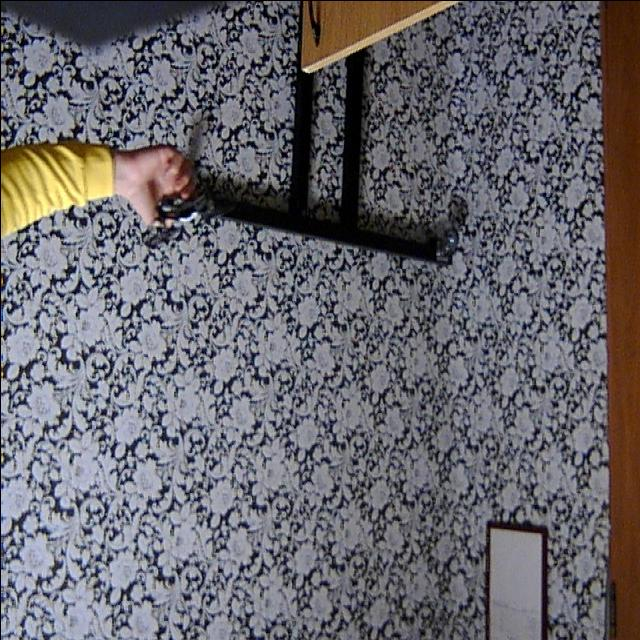drone: (136, 186, 230, 260)
